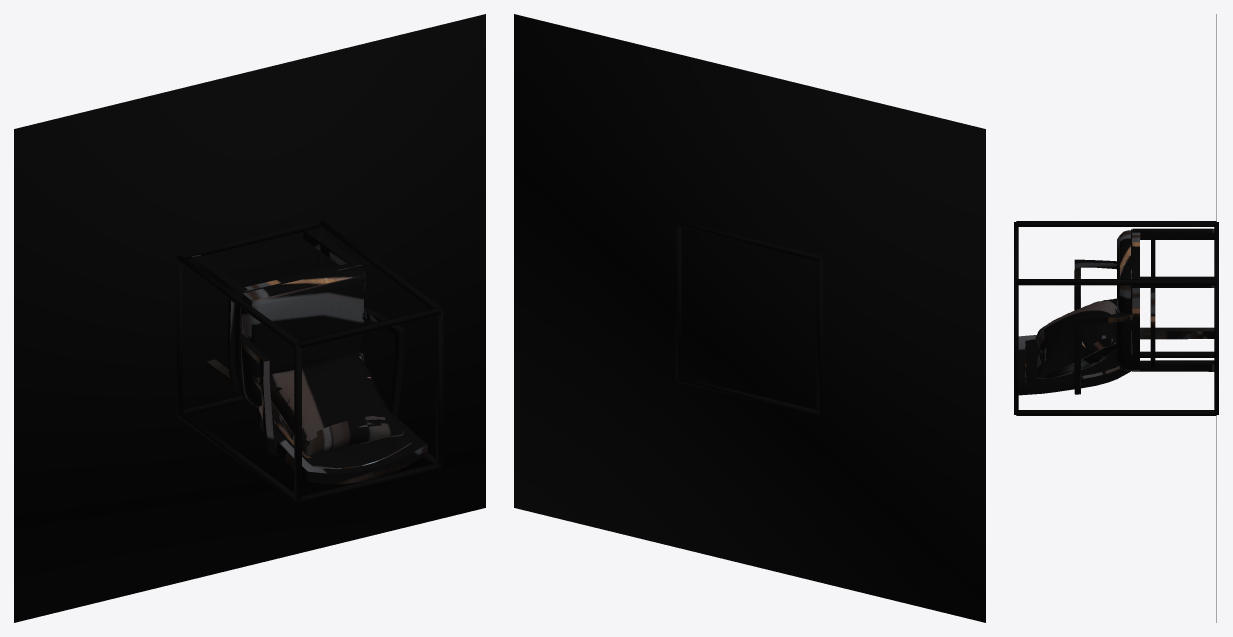
The picture shows the model from 3 angles, left to right: view 1: azimuth 30°, elevation 25°; view 2: azimuth 150°, elevation 25°; view 3: azimuth 270°, elevation 25°; orthographic projection. The views are drawn at different scales.
Bounding box in the file's own units: 2 × 2 × 0.8935.
